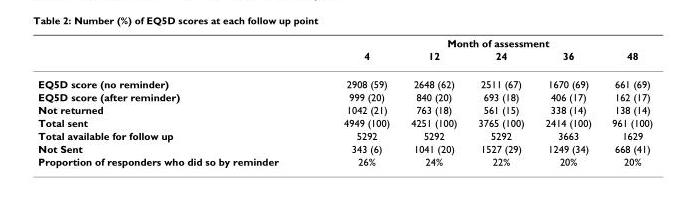table: (37, 36, 652, 167)
table column: (37, 36, 310, 167), (310, 36, 399, 167), (466, 36, 534, 167), (399, 36, 466, 167), (534, 36, 601, 167), (601, 36, 652, 167)
table column header: (37, 36, 652, 69)
table row: (37, 69, 652, 90), (37, 49, 652, 69), (37, 36, 652, 49), (37, 90, 652, 103), (37, 103, 652, 116), (37, 128, 652, 141), (37, 141, 652, 154), (37, 154, 652, 167), (37, 116, 652, 128)
table spanning cell: (310, 36, 652, 49)
